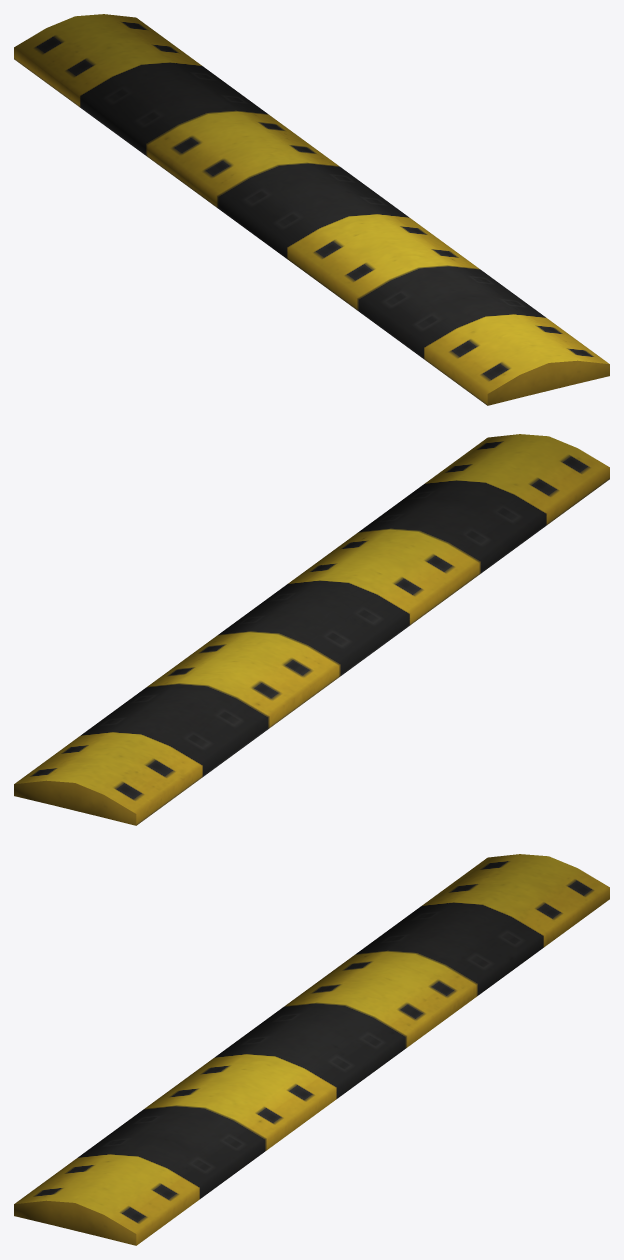
The model's file is barrier_down_03.fbx.
3 views of the same model, one above another, from view 1: azimuth 30°, elevation 25°; view 2: azimuth 150°, elevation 25°; view 3: azimuth 330°, elevation 25° (orthographic).
Parts seen in each view (by area): view 1: barrier_down_03; view 2: barrier_down_03; view 3: barrier_down_03.
Part boxes in pixels (x1,y1,x2,y2): barrier_down_03: [14, 14, 609, 405]; barrier_down_03: [14, 434, 609, 825]; barrier_down_03: [14, 854, 609, 1245].
Size of the model in its own units: 1.56 by 0.3405 by 10.43.
